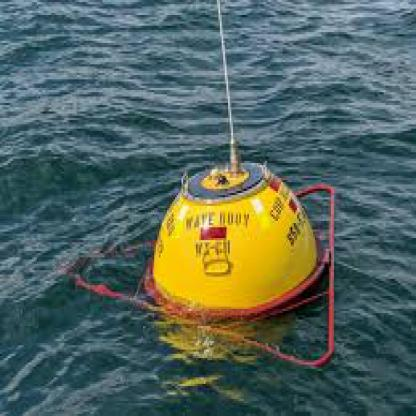buoy: (48, 0, 360, 384)
